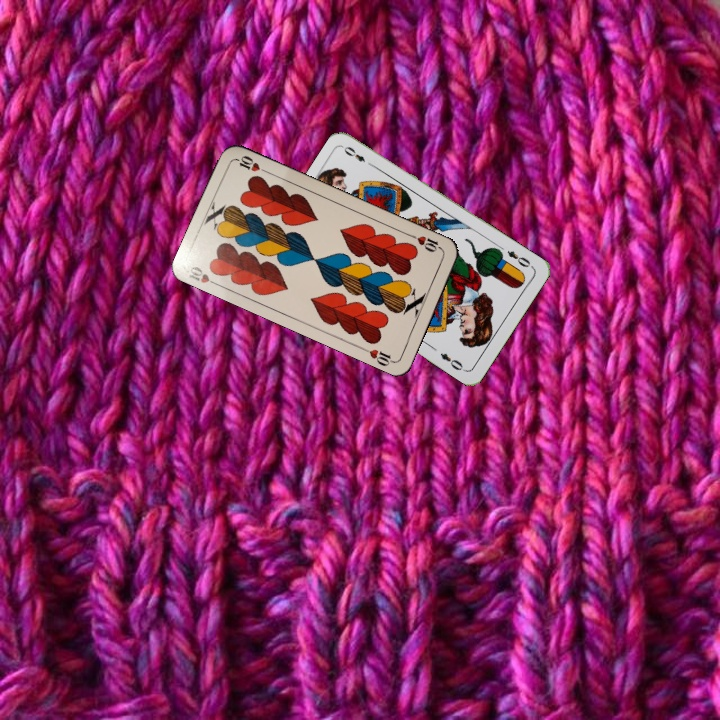EO: (503, 246, 533, 270)
H10: (185, 260, 223, 289), (407, 231, 445, 255)
